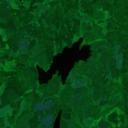alloviz: (35, 35, 93, 86), (50, 108, 63, 128)
